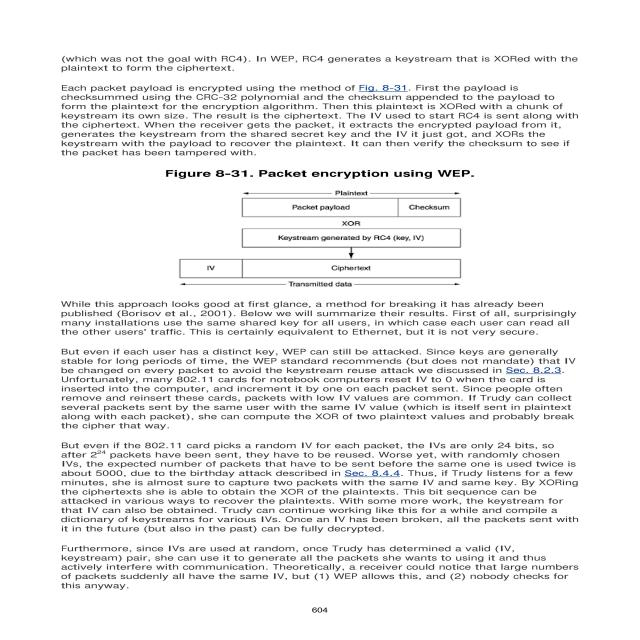diagram: (147, 160, 563, 291)
